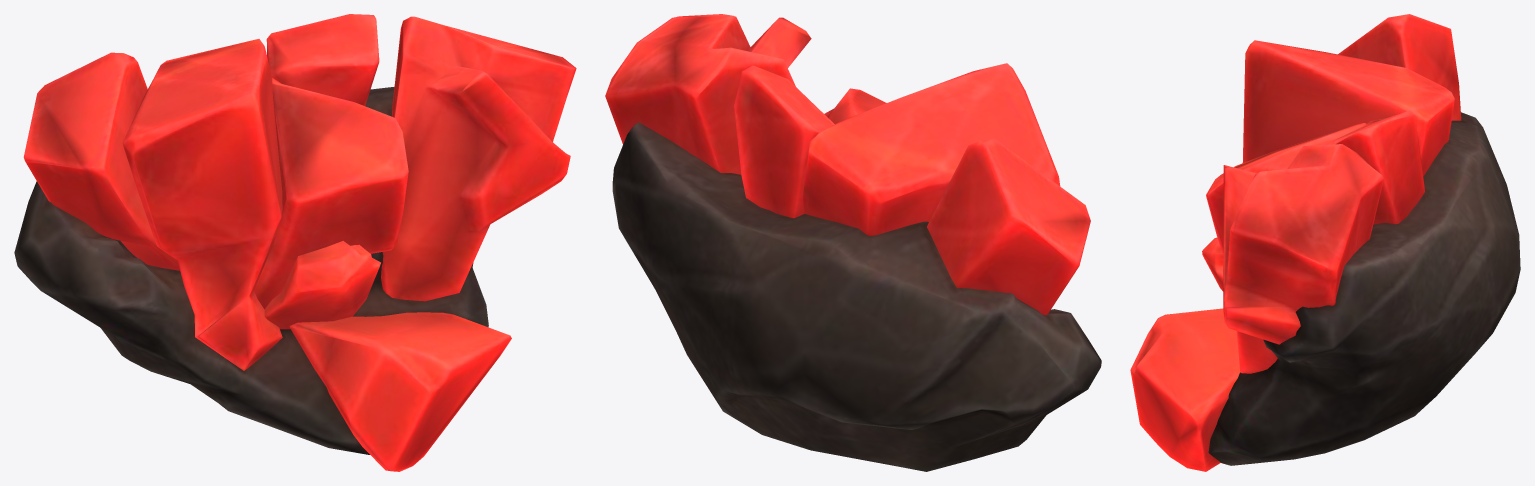
The model's file is crystal_grenatcluster_a_lite.glb.
The picture shows the model from 3 angles, left to right: view 1: azimuth 30°, elevation 25°; view 2: azimuth 150°, elevation 25°; view 3: azimuth 270°, elevation 25°; orthographic projection. The views are drawn at different scales.
Visible parts, largest first — view 1: SM_CRST_DRS_GrenatCluster_Stone_01A, SM_CRST_DRS_GrenatCluster_01A; view 2: SM_CRST_DRS_GrenatCluster_01A, SM_CRST_DRS_GrenatCluster_Stone_01A; view 3: SM_CRST_DRS_GrenatCluster_Stone_01A, SM_CRST_DRS_GrenatCluster_01A.
Part boxes in pixels (left/top/right/bottom): SM_CRST_DRS_GrenatCluster_Stone_01A: left=23, top=14, right=576, bottom=471; SM_CRST_DRS_GrenatCluster_01A: left=14, top=86, right=488, bottom=454; SM_CRST_DRS_GrenatCluster_01A: left=612, top=122, right=1101, bottom=471; SM_CRST_DRS_GrenatCluster_Stone_01A: left=605, top=14, right=1090, bottom=315; SM_CRST_DRS_GrenatCluster_Stone_01A: left=1130, top=14, right=1461, bottom=471; SM_CRST_DRS_GrenatCluster_01A: left=1208, top=112, right=1520, bottom=465.
Size of the model in its own units: 2.42 by 1.81 by 1.77.
2 materials, 2 textured.
